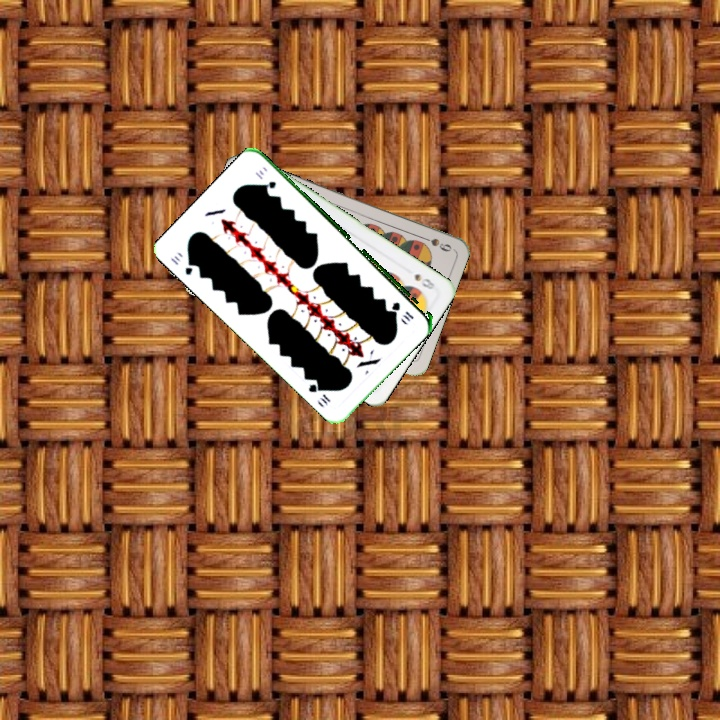G10: (166, 251, 199, 278), (388, 298, 416, 324)
S8: (410, 269, 438, 292)
S9: (415, 232, 454, 254)
